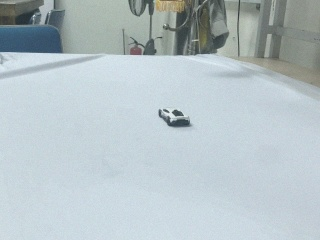toy_car: (158, 108, 190, 127)
